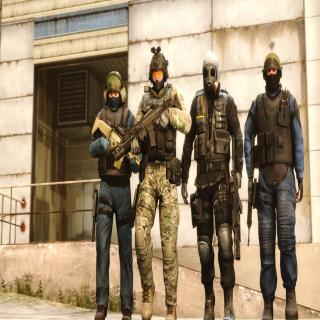CT-Body: (190, 47, 240, 319), (250, 51, 300, 320), (134, 46, 180, 320), (90, 70, 135, 320)
CT-Head: (198, 48, 222, 98), (261, 51, 283, 95), (148, 47, 169, 91), (103, 70, 124, 111)
